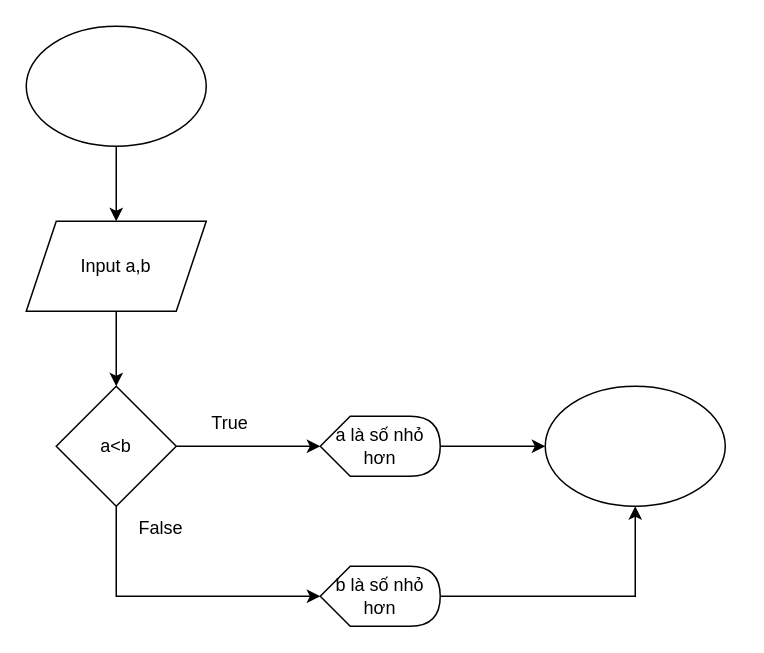
This 764x653 diagram has some shape labels left out. Each missing label, with the box of its shape:
End: (544, 385, 725, 506)
Start: (25, 25, 206, 146)
